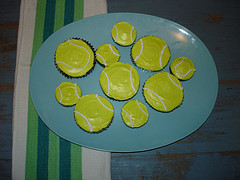tennis ball: (51, 34, 99, 81), (141, 69, 188, 113), (128, 33, 174, 73), (74, 93, 116, 134), (99, 60, 142, 100), (118, 98, 151, 130), (51, 80, 84, 106), (170, 54, 198, 83), (110, 19, 139, 47), (93, 42, 122, 68)
